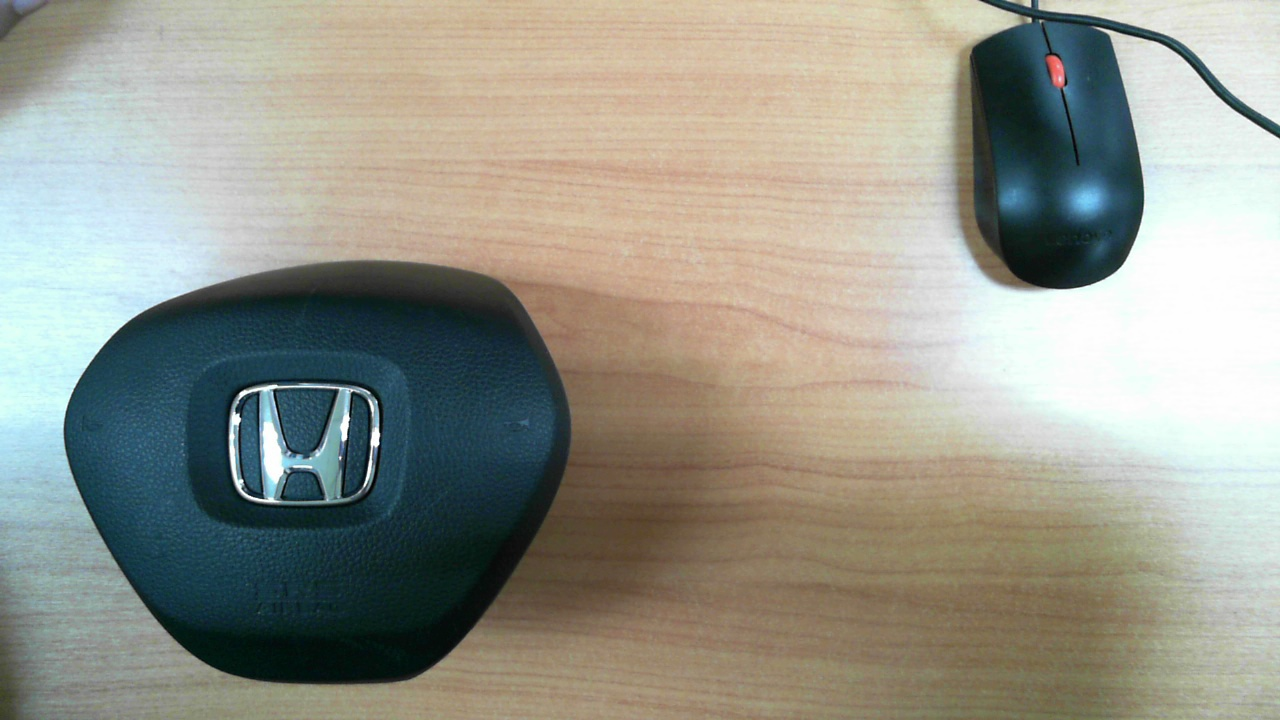Airbag: (65, 261, 572, 684)
